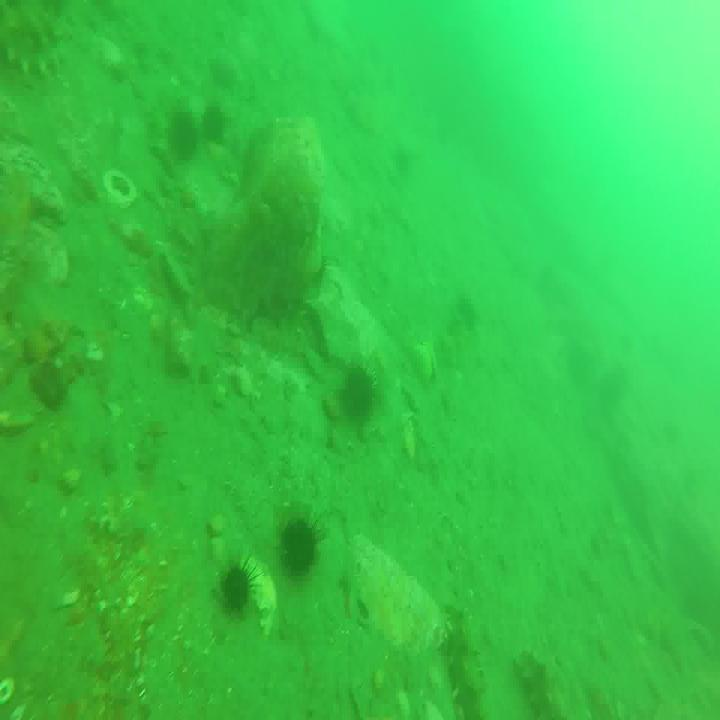echinus: (282, 516, 318, 576), (346, 364, 377, 423), (221, 558, 250, 615), (170, 112, 198, 161), (202, 100, 226, 146)
holothurian: (445, 605, 484, 720), (519, 641, 566, 720)
